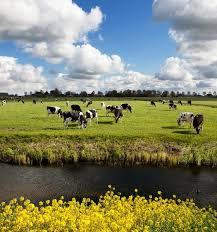cow: (64, 110, 90, 128), (177, 113, 195, 126), (193, 114, 205, 133), (82, 109, 99, 121), (45, 105, 63, 116), (114, 109, 124, 122), (106, 105, 119, 115), (119, 104, 133, 111), (166, 103, 179, 110), (70, 105, 83, 111), (85, 101, 93, 107), (177, 99, 184, 105), (187, 99, 194, 105), (1, 100, 8, 106), (149, 101, 156, 105), (65, 101, 70, 106), (159, 100, 167, 103), (101, 101, 105, 107), (34, 98, 37, 105), (22, 100, 26, 105), (81, 99, 87, 102), (40, 99, 45, 102), (167, 100, 174, 102)
